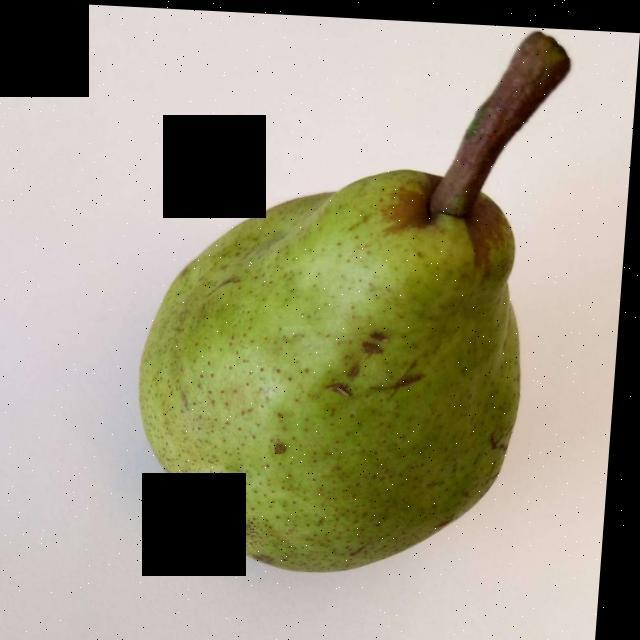pear: (152, 175, 520, 563)
